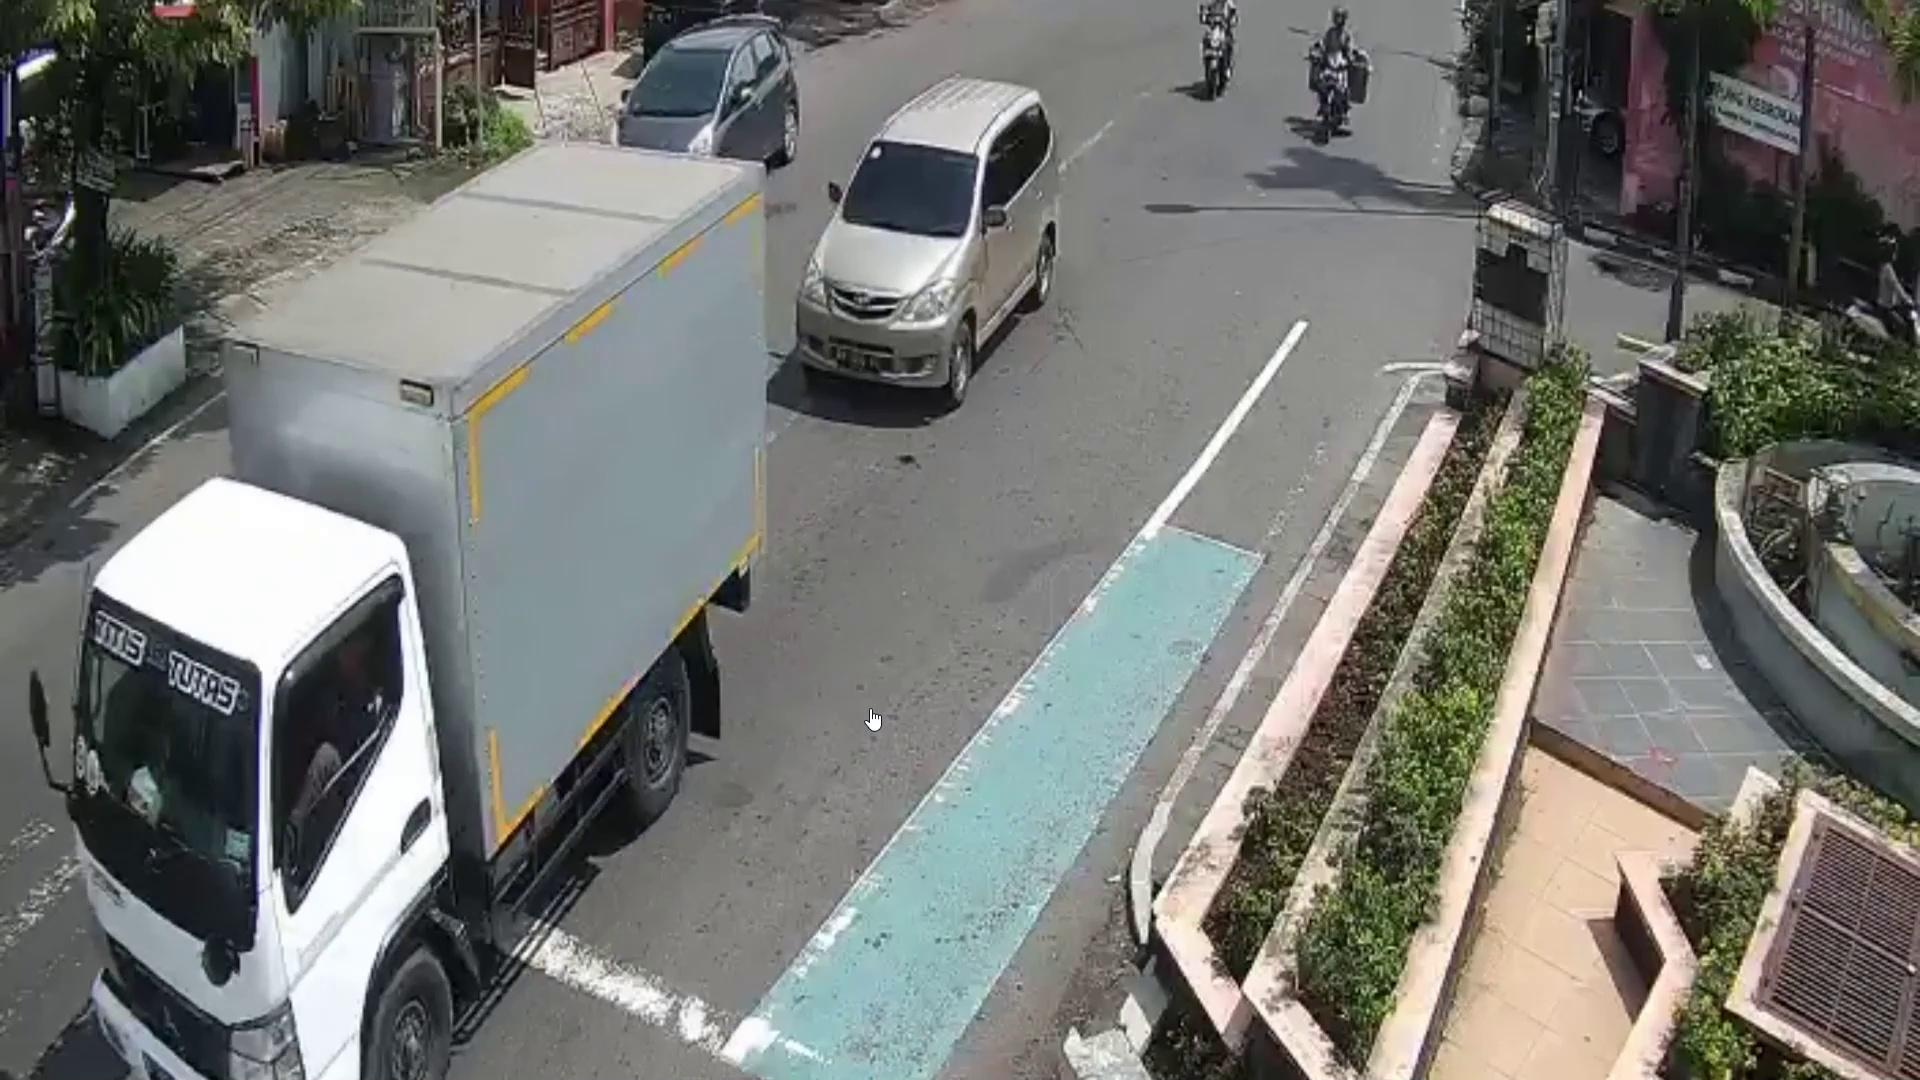car: (798, 75, 1059, 417), (622, 11, 799, 169)
motorbike: (1313, 44, 1353, 146)
truck: (78, 140, 765, 1080)
